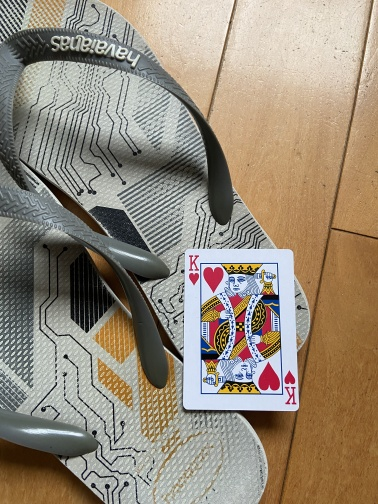king: (181, 248, 301, 413)
